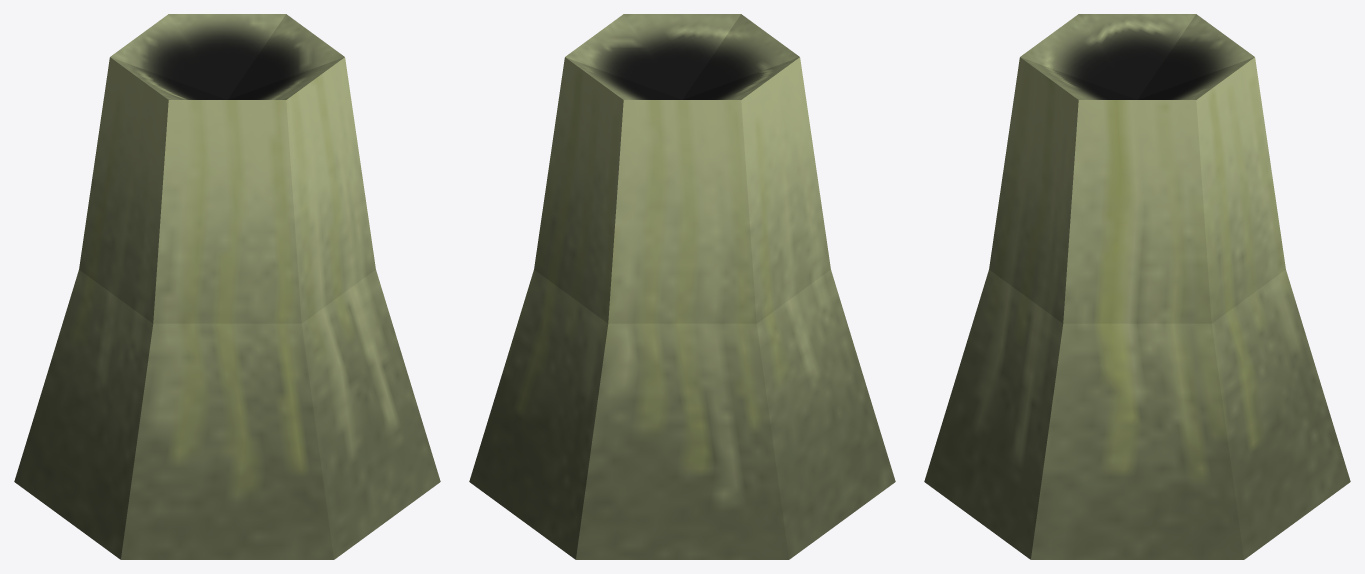
File: Barnacle3.fbx
The picture shows the model from 3 angles, left to right: view 1: azimuth 30°, elevation 25°; view 2: azimuth 150°, elevation 25°; view 3: azimuth 270°, elevation 25°; orthographic projection.
Parts seen in each view (by area): view 1: Barnacle3; view 2: Barnacle3; view 3: Barnacle3.
Part boxes in pixels (left/top/right/bottom): Barnacle3: left=14, top=14, right=440, bottom=559; Barnacle3: left=469, top=14, right=895, bottom=559; Barnacle3: left=924, top=14, right=1350, bottom=559.
Bounding box in the file's own units: 30.19 × 38.32 × 34.86.
